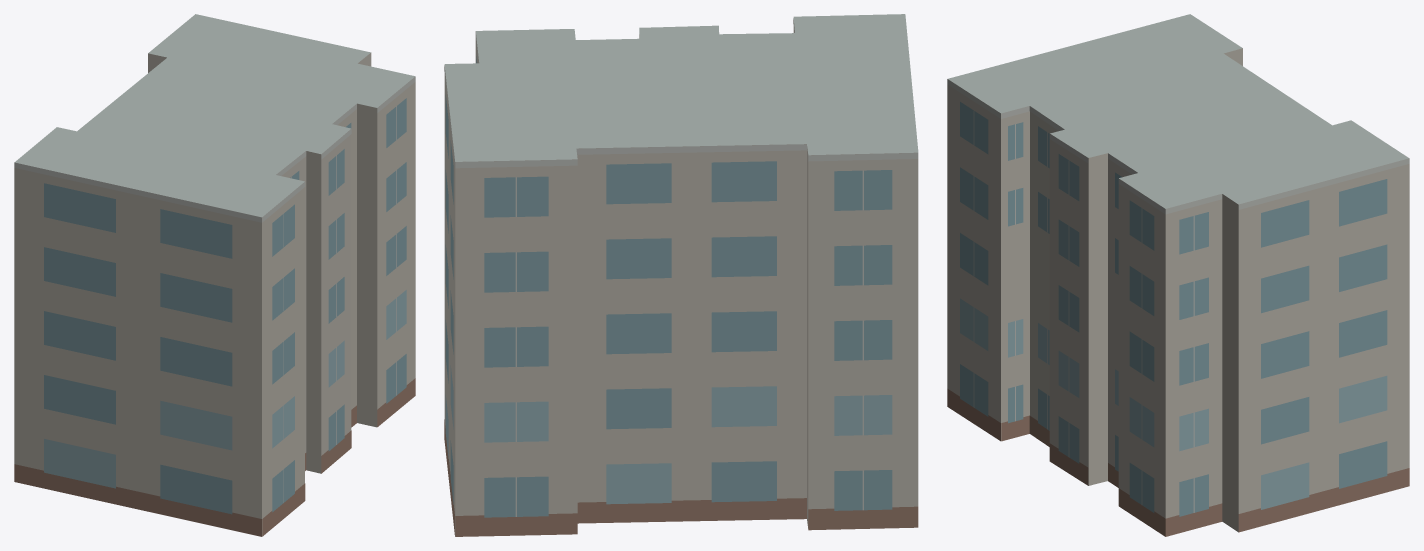
The model's file is survey-upis-32941755.glb.
3 renders of one model, left to right at view 1: azimuth 30°, elevation 25°; view 2: azimuth 150°, elevation 25°; view 3: azimuth 270°, elevation 25°, orthographic. The views are drawn at different scales.
Parts seen in each view (by area): view 1: survey-upis-32941755.tmp; view 2: survey-upis-32941755.tmp; view 3: survey-upis-32941755.tmp.
Part boxes in pixels (x1,y1,x2,y2): survey-upis-32941755.tmp: (14, 14, 415, 536); survey-upis-32941755.tmp: (444, 14, 918, 536); survey-upis-32941755.tmp: (947, 14, 1409, 536).
Bounding box in the file's own units: 18.5 × 14.5 × 18.52.
